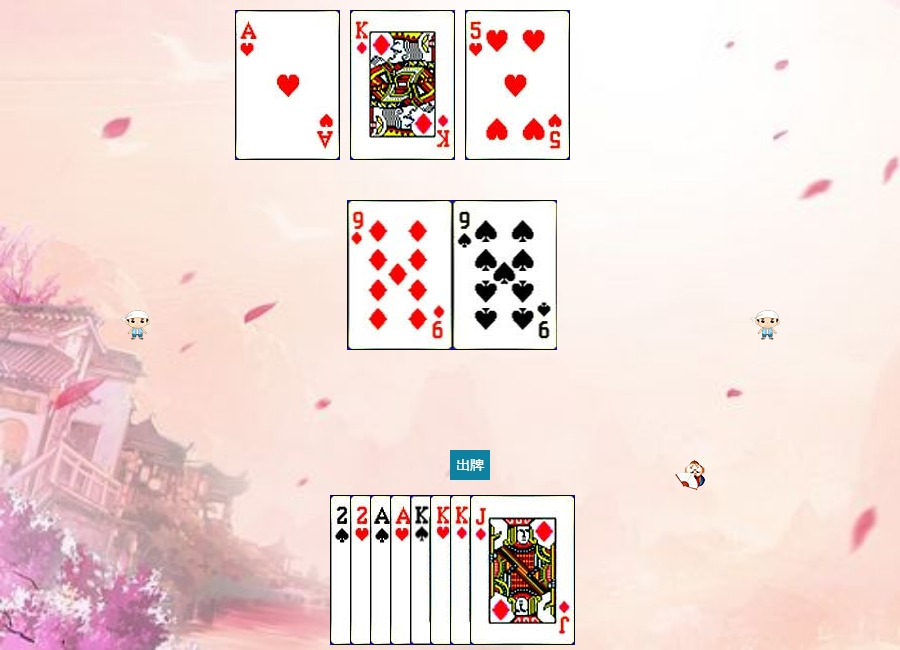11~1: (470, 495, 575, 645)
13~1: (350, 10, 455, 160), (450, 495, 555, 645)
13~3: (430, 495, 535, 645)
13~4: (410, 495, 515, 645)
14~3: (235, 10, 340, 160), (390, 495, 495, 645)
14~4: (370, 495, 475, 645)
15~3: (350, 495, 455, 645)
15~4: (330, 495, 435, 645)
5~3: (465, 10, 570, 160)
9~1: (348, 200, 453, 350)
9~4: (453, 200, 558, 350)
